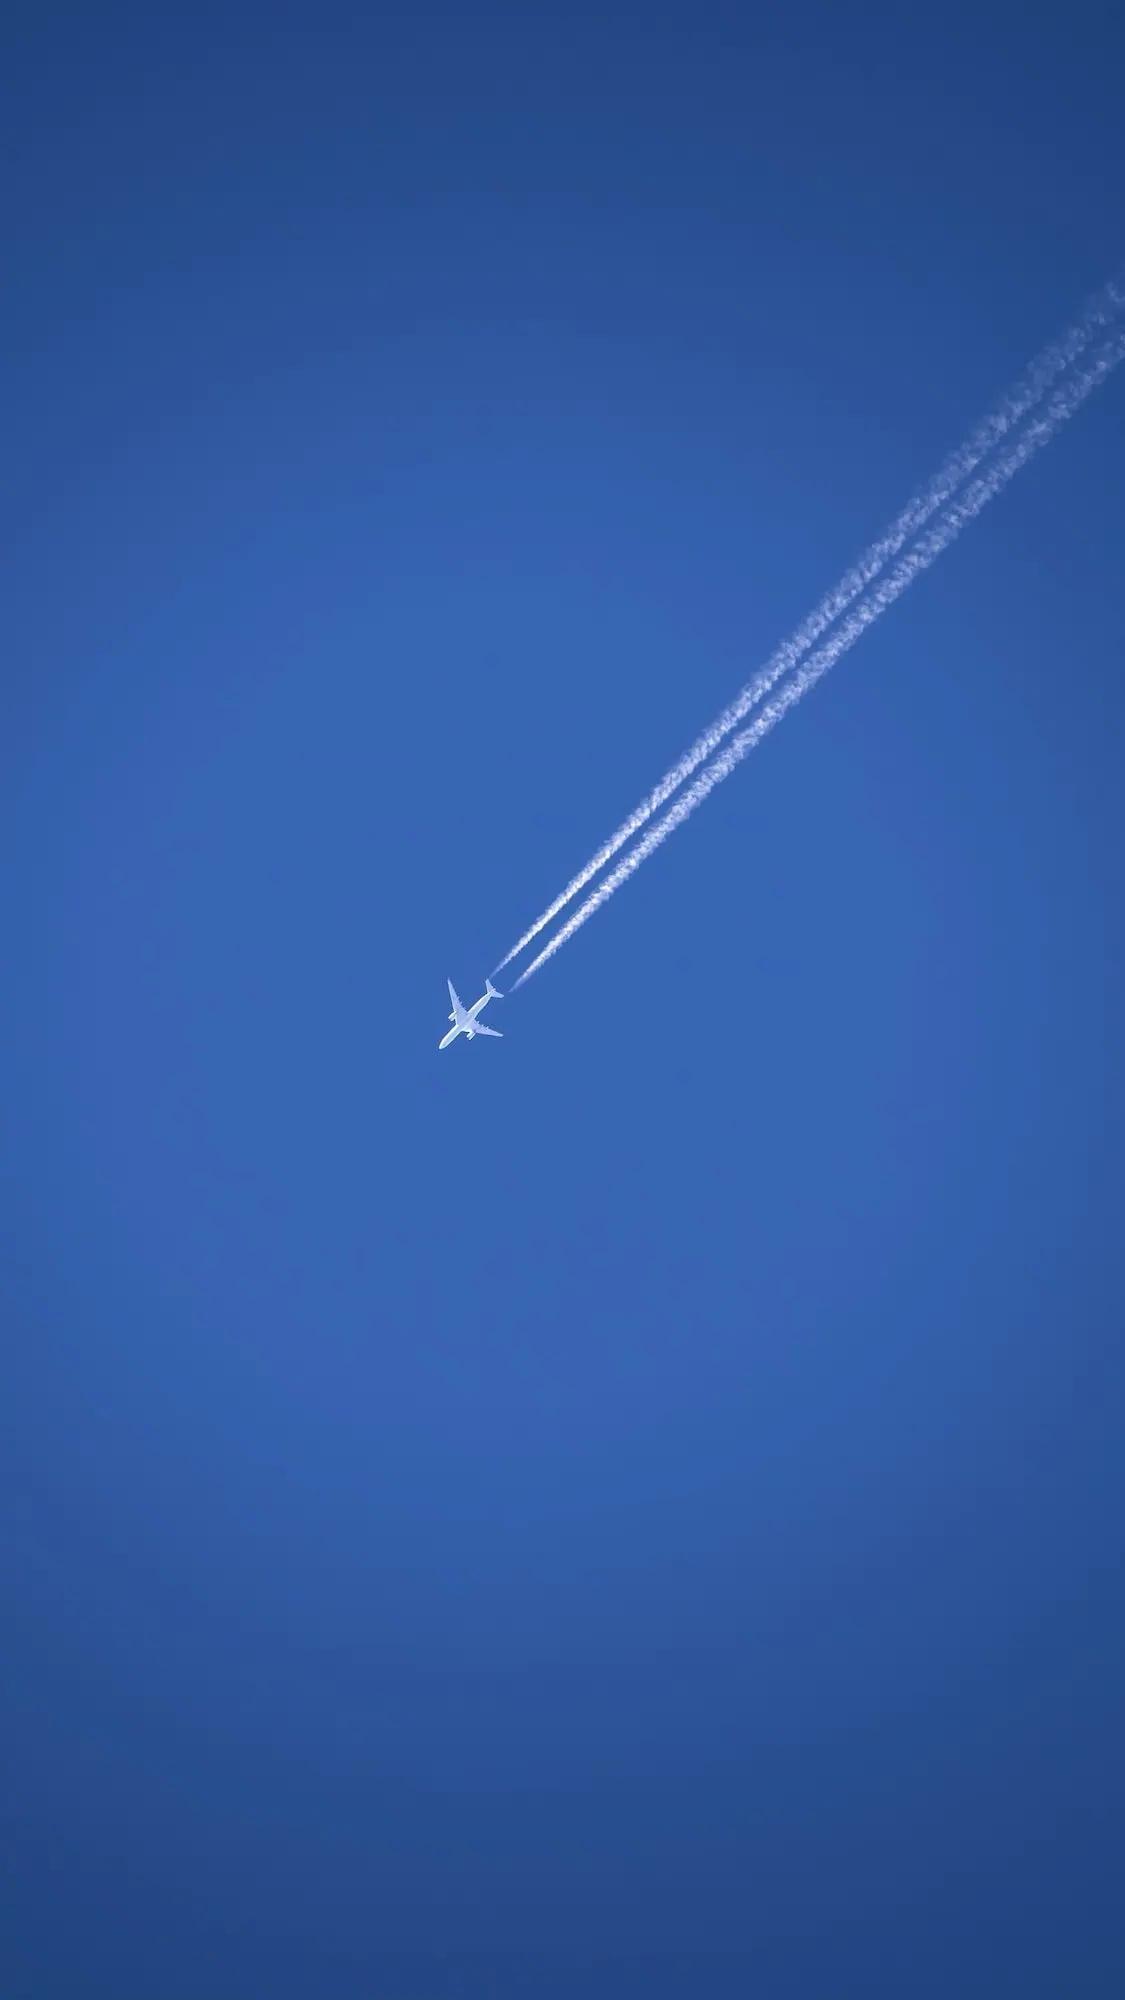Plane: (398, 592, 978, 1098)
